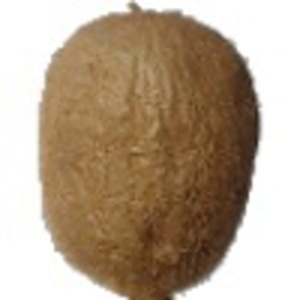kiwi: (35, 1, 262, 300)
